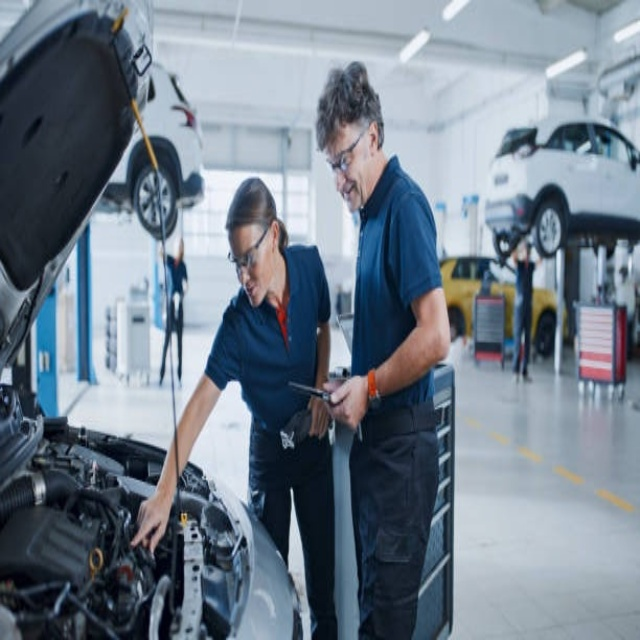Gafas: (229, 224, 272, 277), (324, 124, 369, 173)
Sin_guantes: (133, 484, 173, 549), (324, 374, 366, 433), (307, 392, 332, 439)
Sin_mascara: (338, 175, 361, 212), (239, 281, 259, 305)
